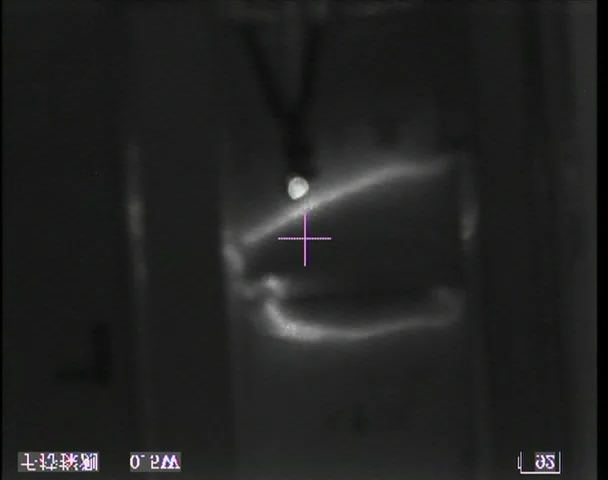my: (286, 177, 311, 200)
